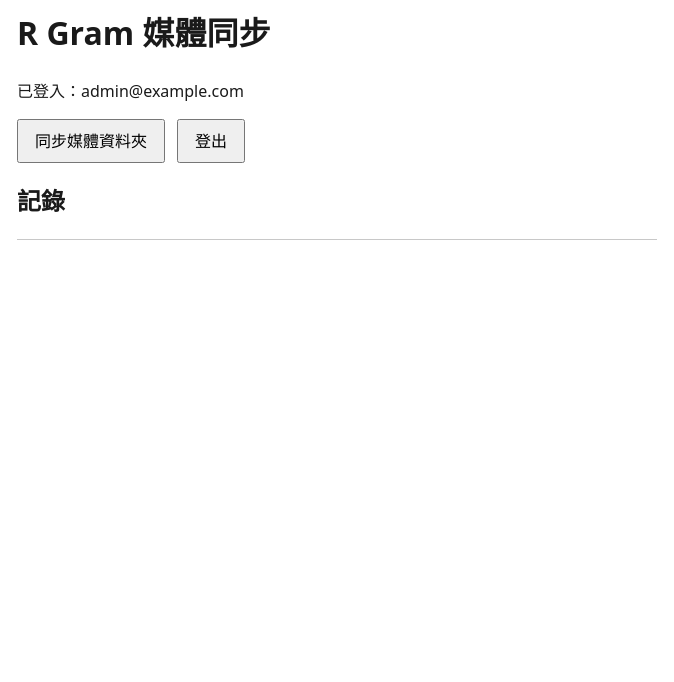
Test: App › should show the admin, sync the bucket and show the log and summary
Check: the text "已登入：admin@example.com" is shown, box x1=17 y1=80 x2=244 y2=102
Click the button "同步媒體資料夾" at (91, 141), box x1=17 y1=119 x2=165 y2=163
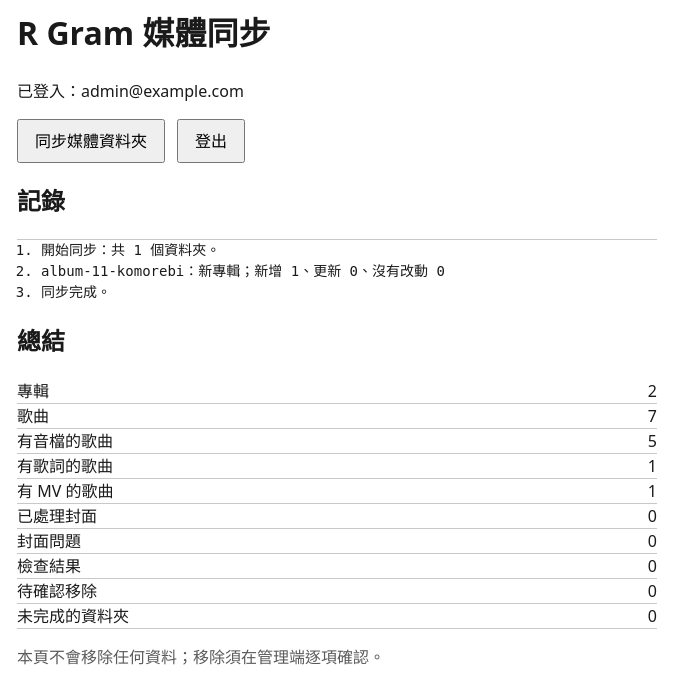
Check: the list item "同步完成。" is shown, box x1=41 y1=284 x2=111 y2=300
Check: the text "5" is shown, box x1=648 y1=428 x2=657 y2=452
Check: the text "0" in the row of "待確認移除" is shown, box x1=648 y1=580 x2=657 y2=602
